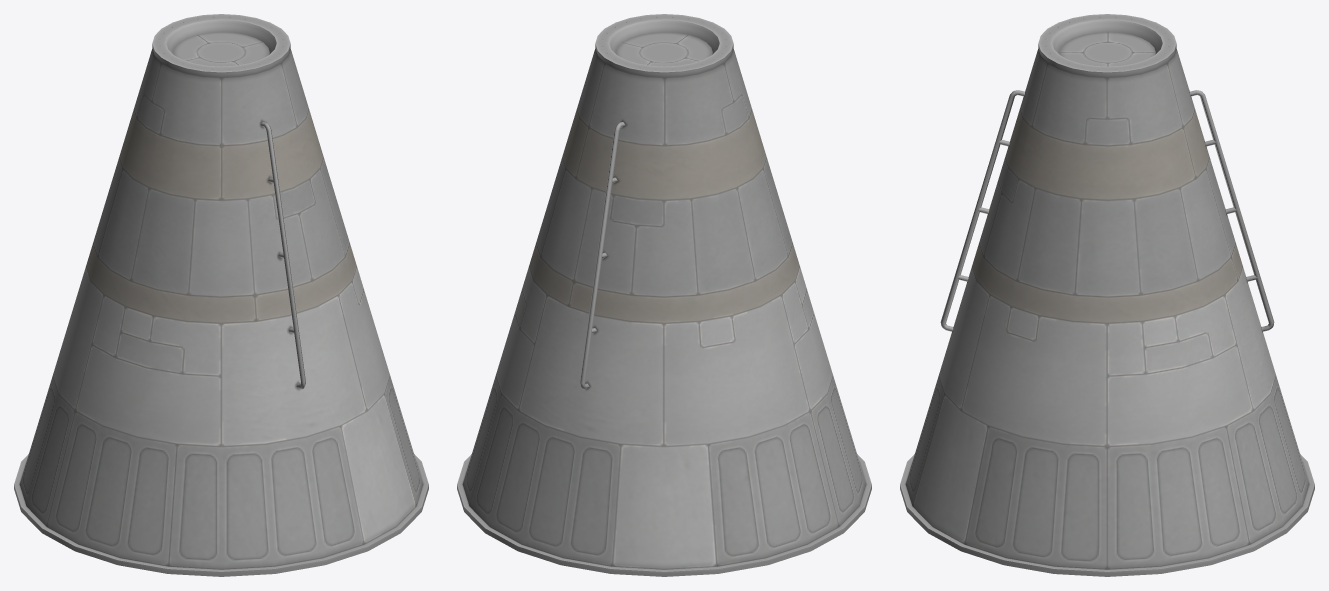
The model's file is Alniyat_Crew_4.obj.
3 views of the same model, side by side, from view 1: azimuth 30°, elevation 25°; view 2: azimuth 150°, elevation 25°; view 3: azimuth 270°, elevation 25° (orthographic).
Parts seen in each view (by area): view 1: Alniyat_Crew_4; view 2: Alniyat_Crew_4; view 3: Alniyat_Crew_4.
Boxes of the visible parts, box(x1,y1,x2,y2) form: Alniyat_Crew_4: box(14, 14, 428, 576); Alniyat_Crew_4: box(457, 14, 871, 576); Alniyat_Crew_4: box(900, 14, 1314, 576).
Bounding box in the file's own units: 1.88 × 2.22 × 1.88.
